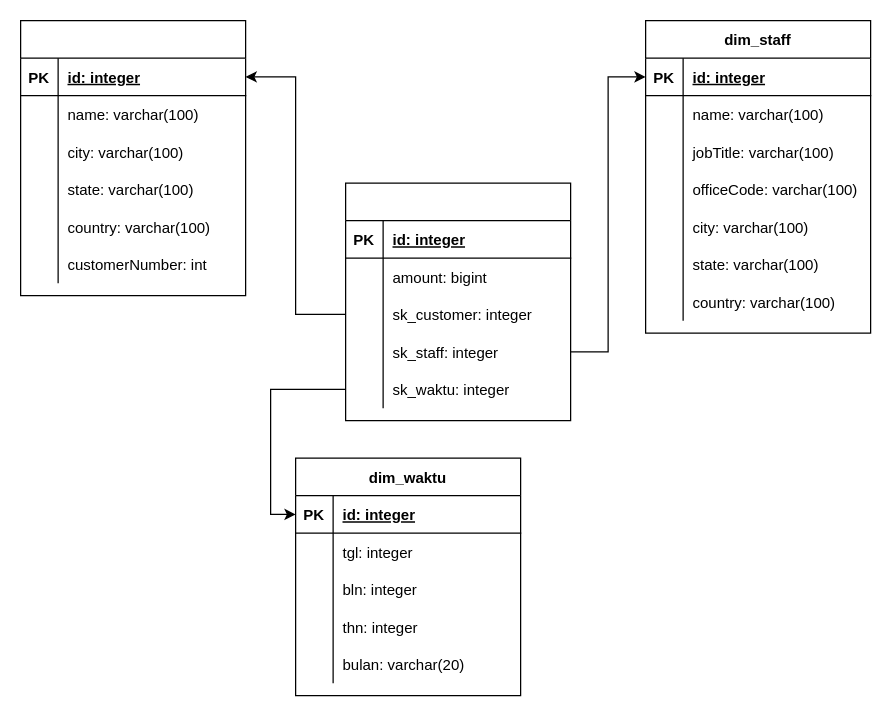
Image size: 891x716. Some labels were removed from this diagram. Each missing label, with the box of its shape:
dim_customer: (19, 19, 246, 296)
fakta_pembayaran: (344, 182, 571, 421)
